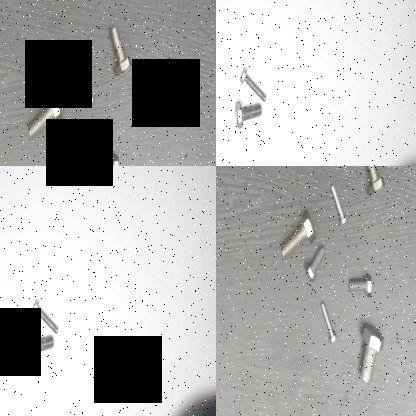Bolts: (24, 80, 64, 144), (358, 320, 388, 388), (280, 208, 316, 258), (106, 22, 132, 86), (304, 242, 332, 286), (22, 330, 57, 364), (230, 98, 264, 132), (239, 64, 269, 102), (31, 296, 61, 334), (77, 62, 98, 111), (342, 270, 375, 300), (50, 123, 74, 164), (319, 298, 339, 346), (328, 184, 349, 226), (361, 166, 385, 199), (93, 151, 121, 166)
